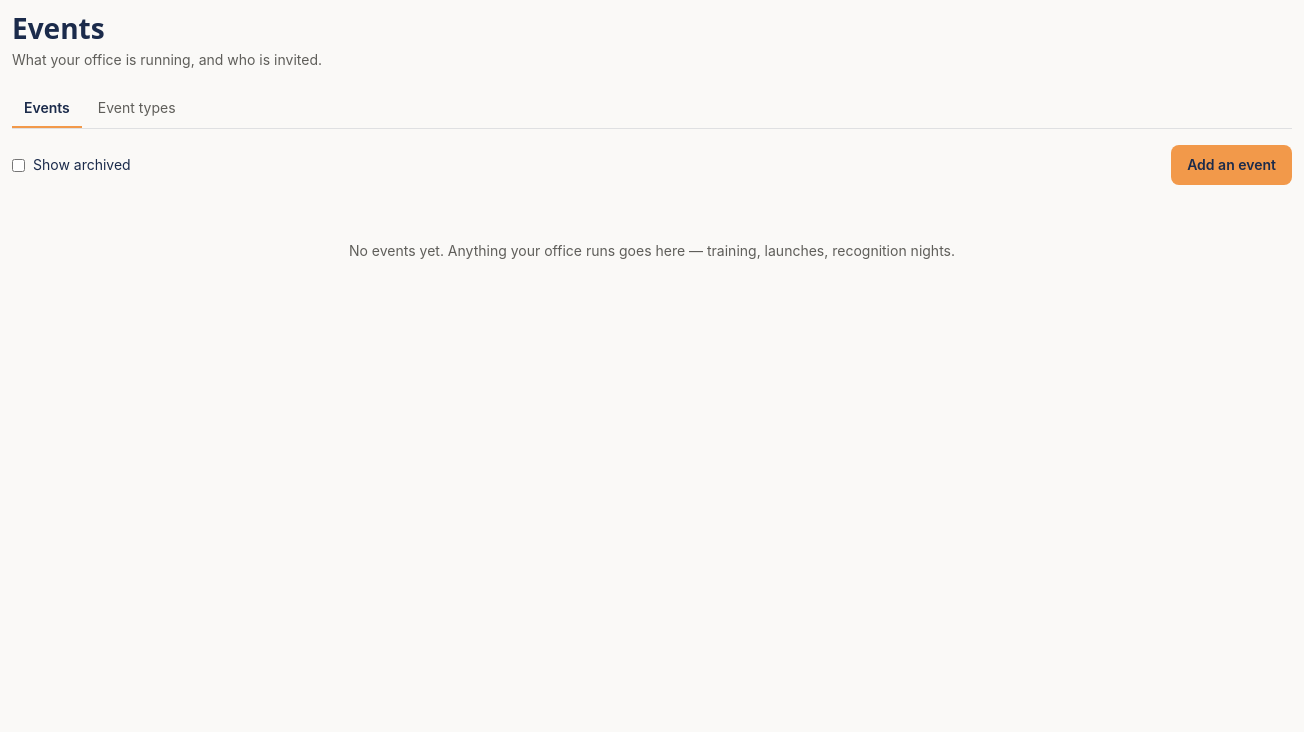
Test: the office’s Events screen › fills the code in from the title
Click the button "Add an event": (1232, 165) [1171, 145, 1292, 185]
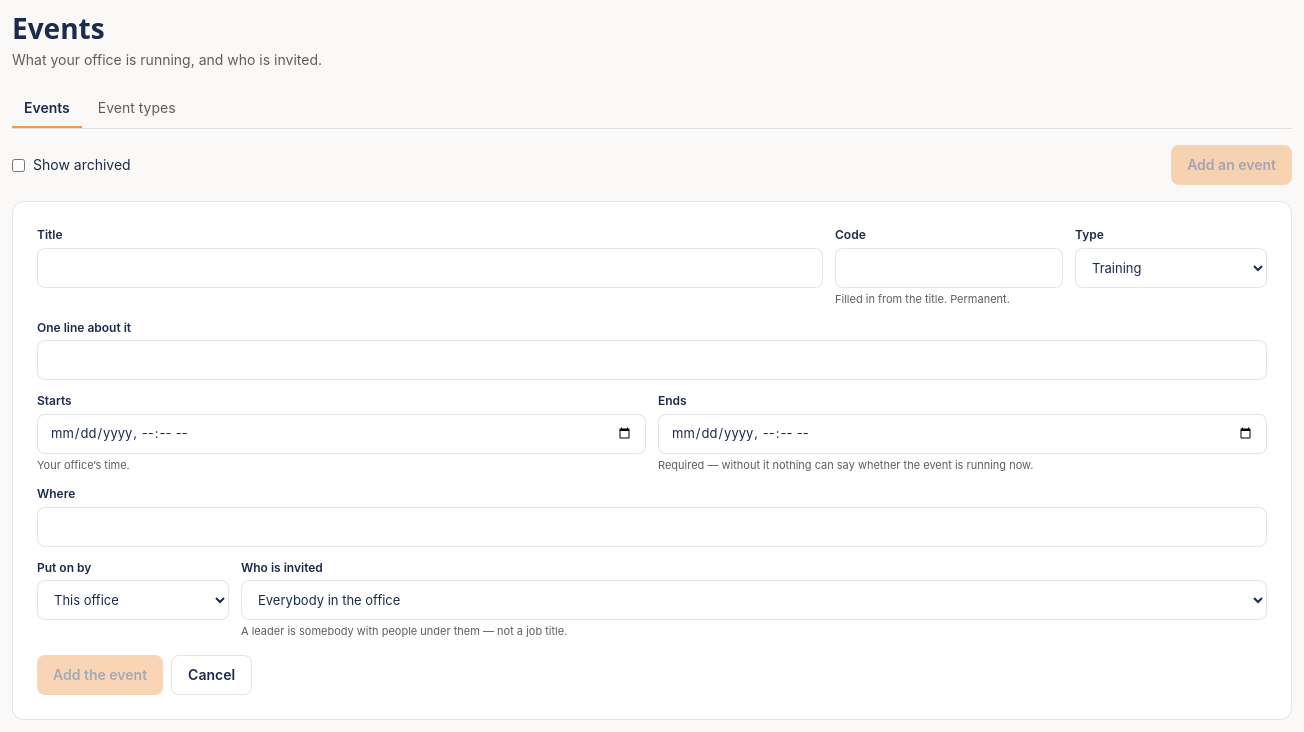
In the field labelled "Title": (430, 268) [37, 248, 823, 288], type "Kickoff 2026"
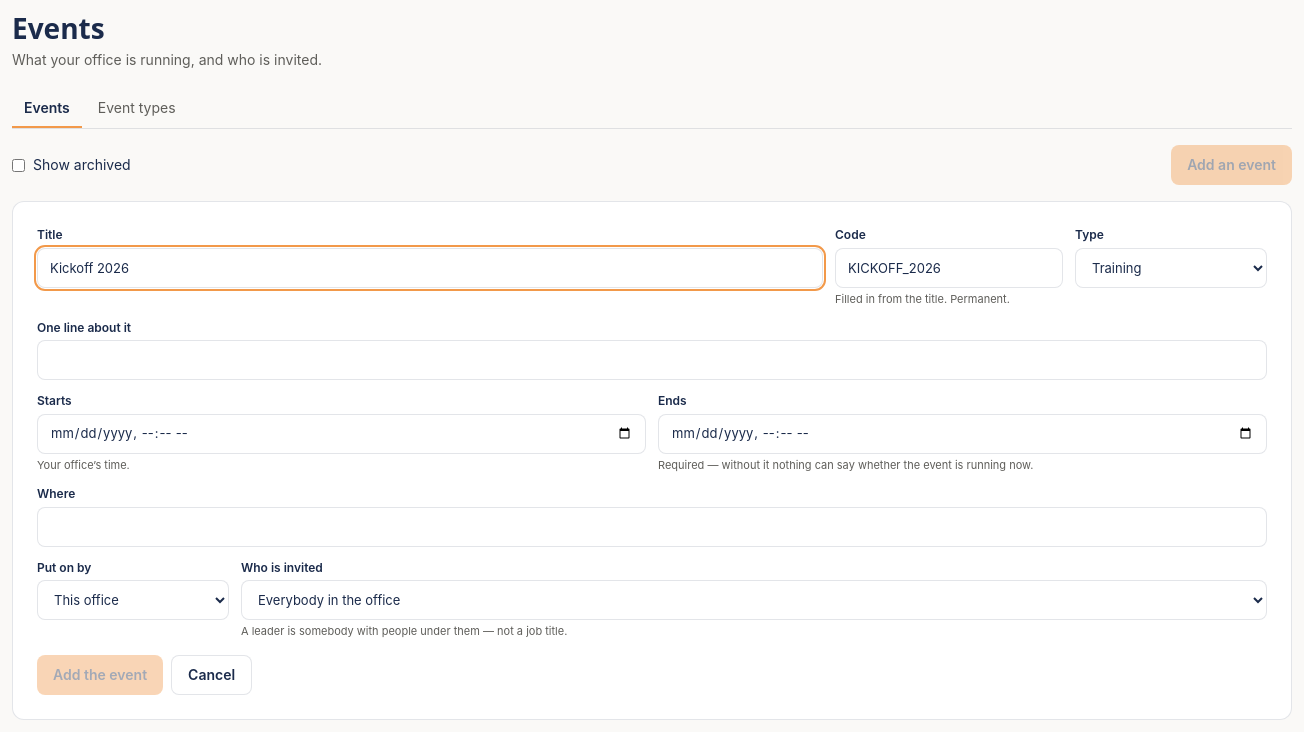
Now the field labelled "Code" holds "KICKOFF_2026", box [835, 248, 1063, 288]
